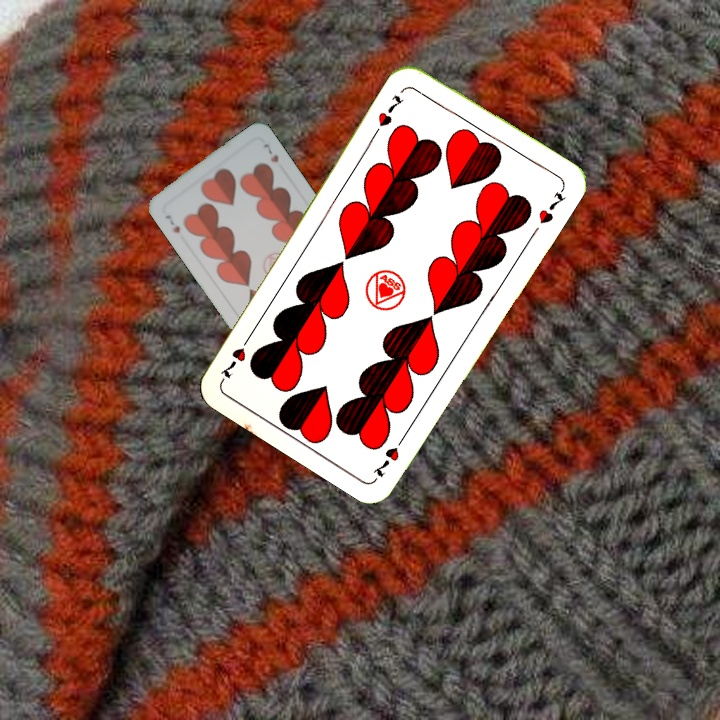H7: (368, 429, 410, 480), (370, 90, 408, 137), (161, 210, 183, 236)
